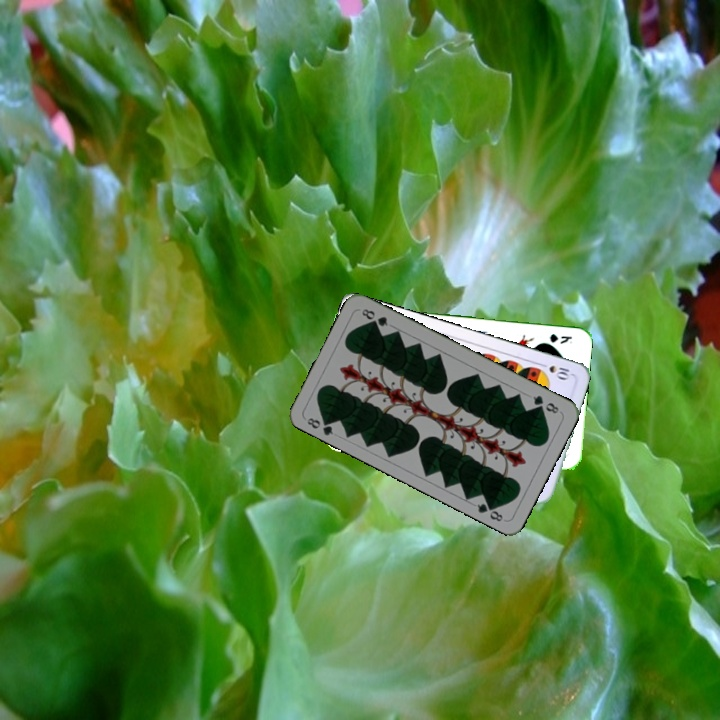G8: (303, 413, 336, 438), (529, 391, 561, 416)
GK: (546, 330, 574, 346)
S10: (535, 359, 574, 382)
